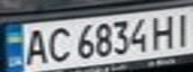3: (112, 18, 133, 56)
4: (127, 15, 154, 53)
6: (72, 20, 96, 60)
8: (93, 19, 115, 58)
A: (21, 25, 51, 66)
C: (42, 25, 72, 64)
H: (148, 11, 178, 50)
I: (169, 9, 193, 47)
